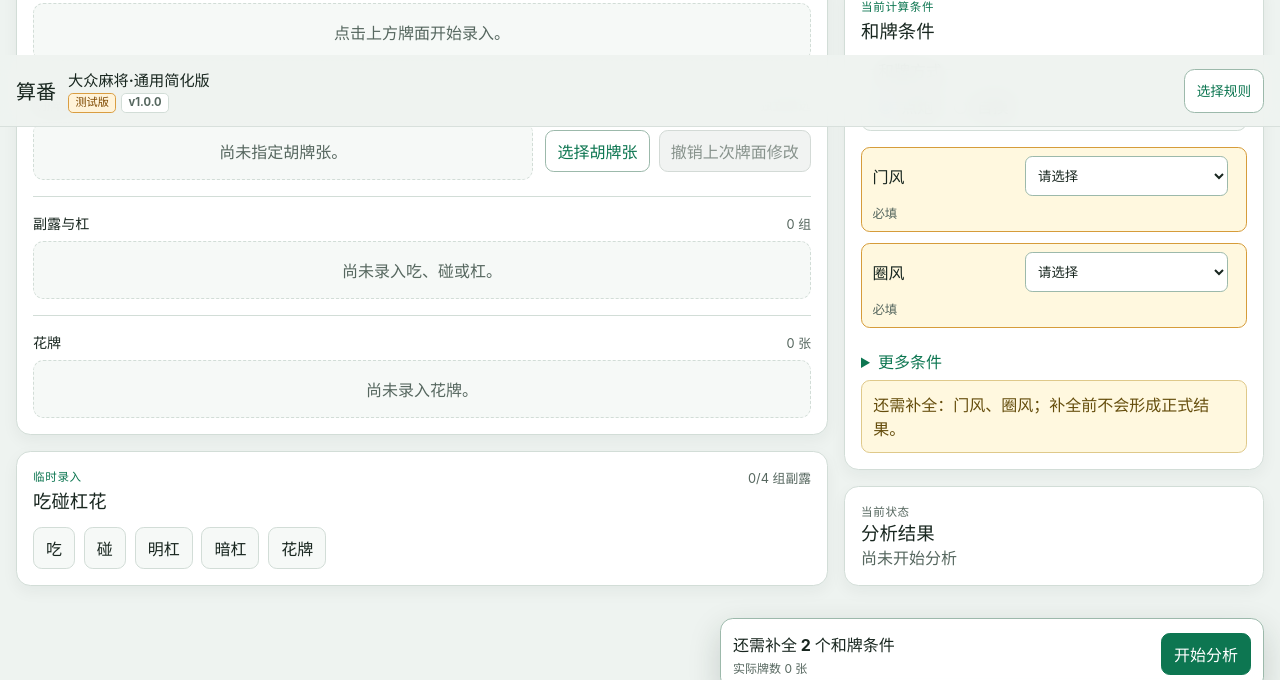
CalculatorPage Batch 12 interaction › guards closing temporary chow input and operating the winning-tile slot
The image size is (1280, 680).
(page scrolled)
Click the button "吃" at (54, 548), box [33,527,75,569]
(page scrolled)
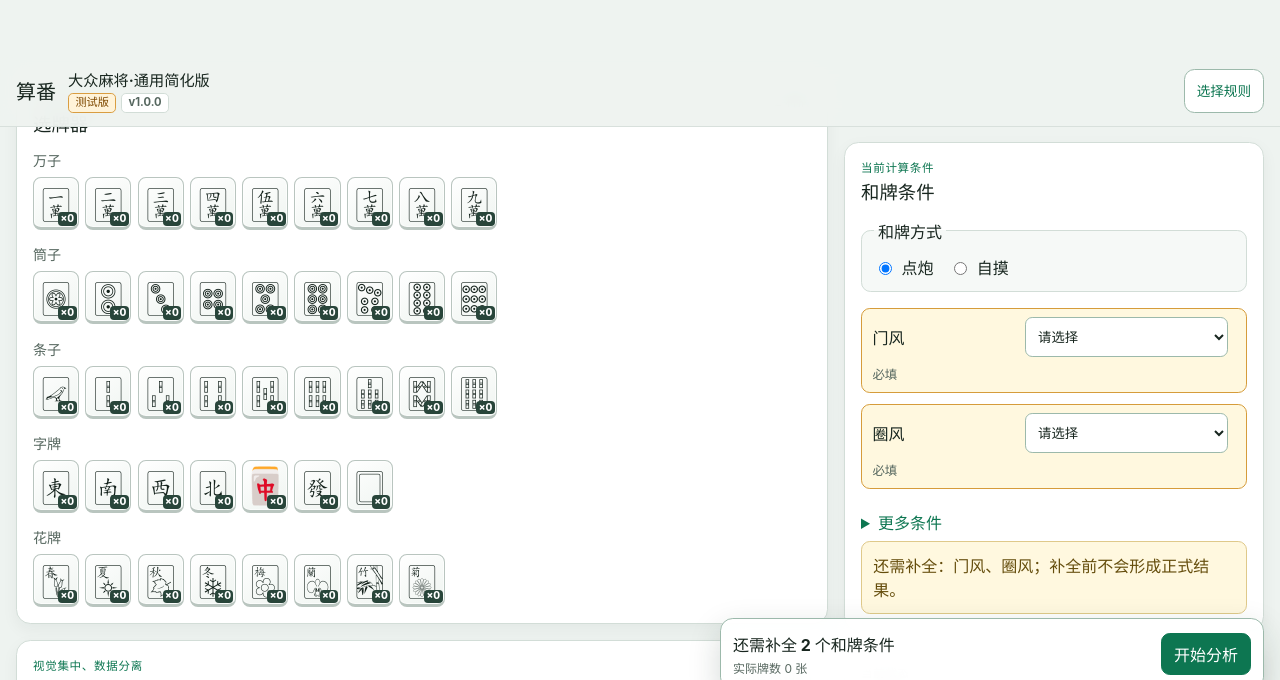
Click the button named "四万，已使用 0 张" at (213, 203), box [190,177,236,230]
(page scrolled)
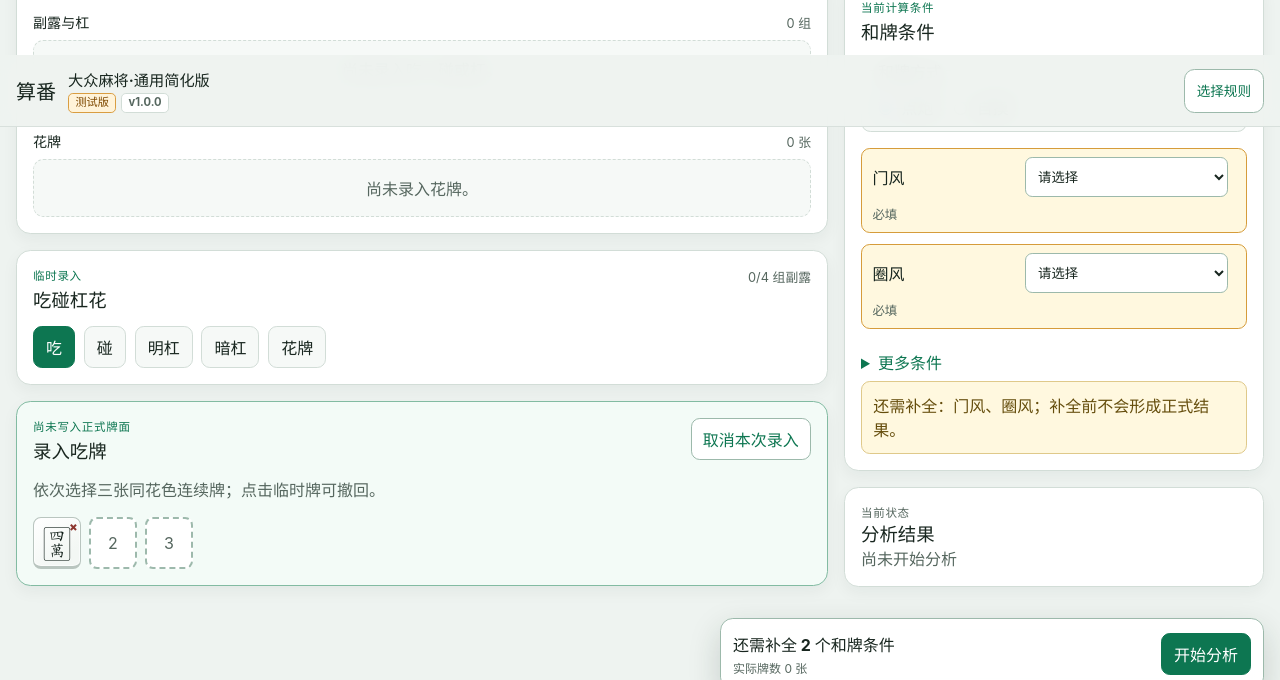
Click the button "取消本次录入" at (751, 439), box [691,418,811,460]
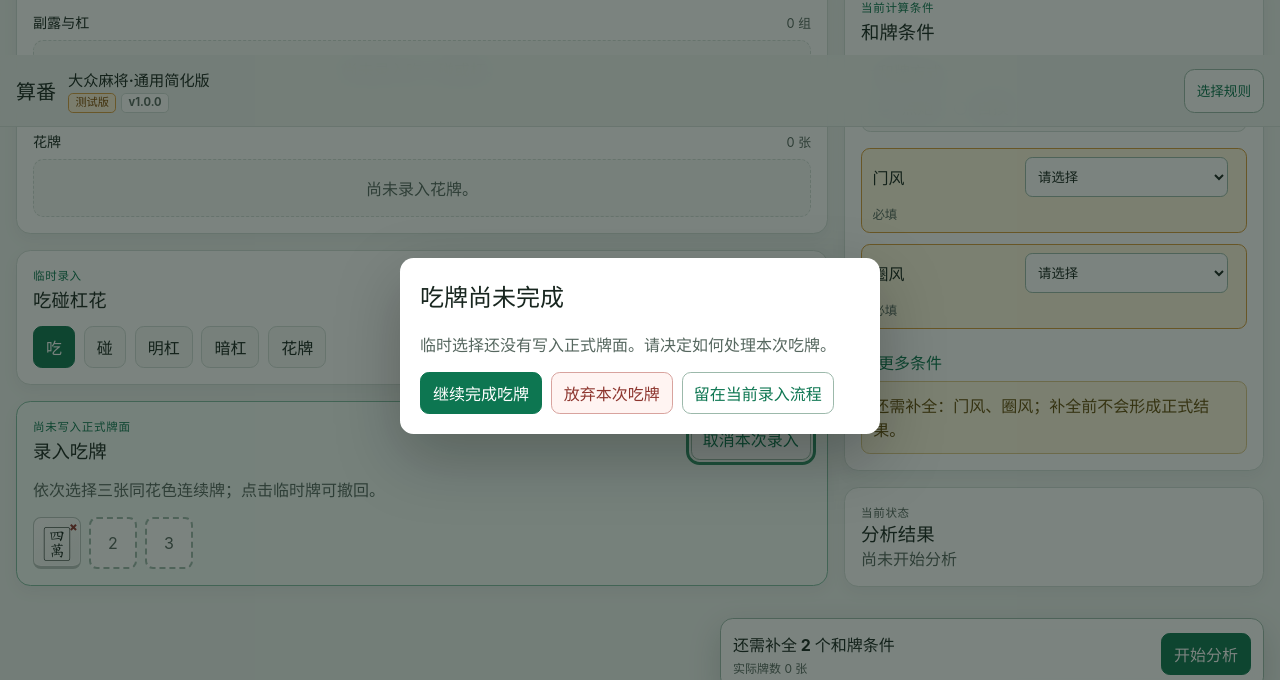
Expected: the dialog "吃牌尚未完成" is shown, [400,258,880,434]
Click the button "留在当前录入流程" at (758, 394), box [682,372,834,414]
(page scrolled)
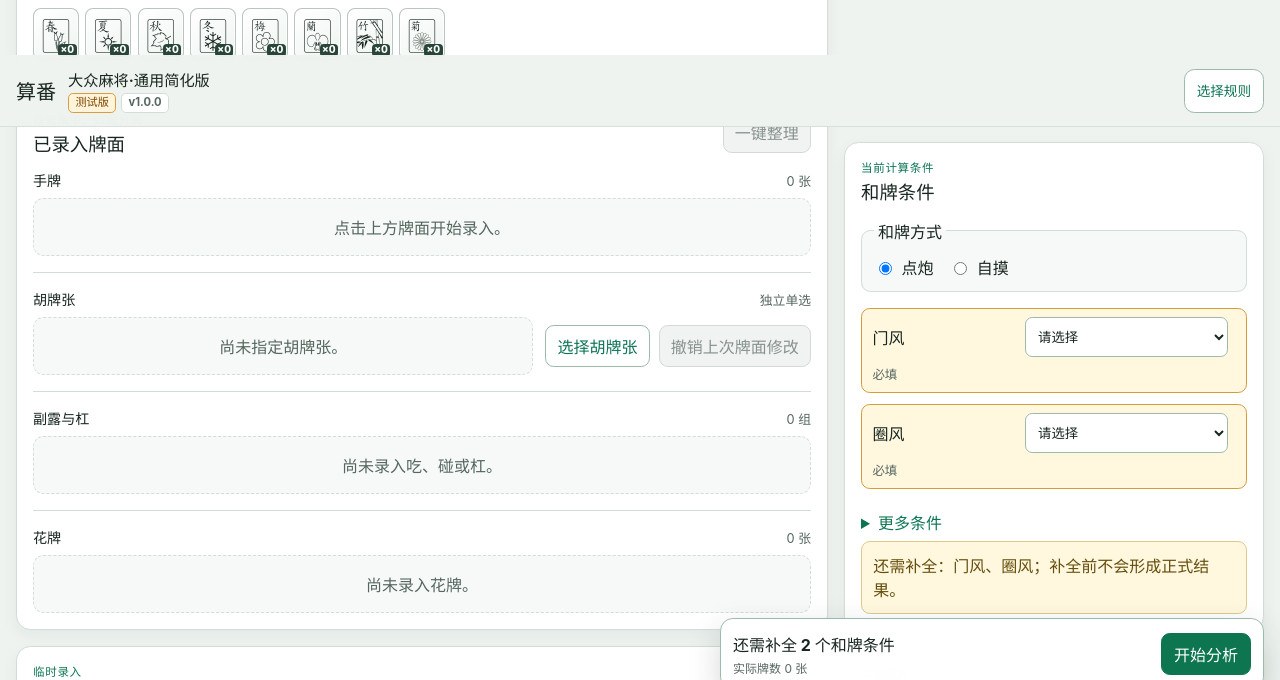
Click the button "选择胡牌张" at (598, 346), box [545,325,650,367]
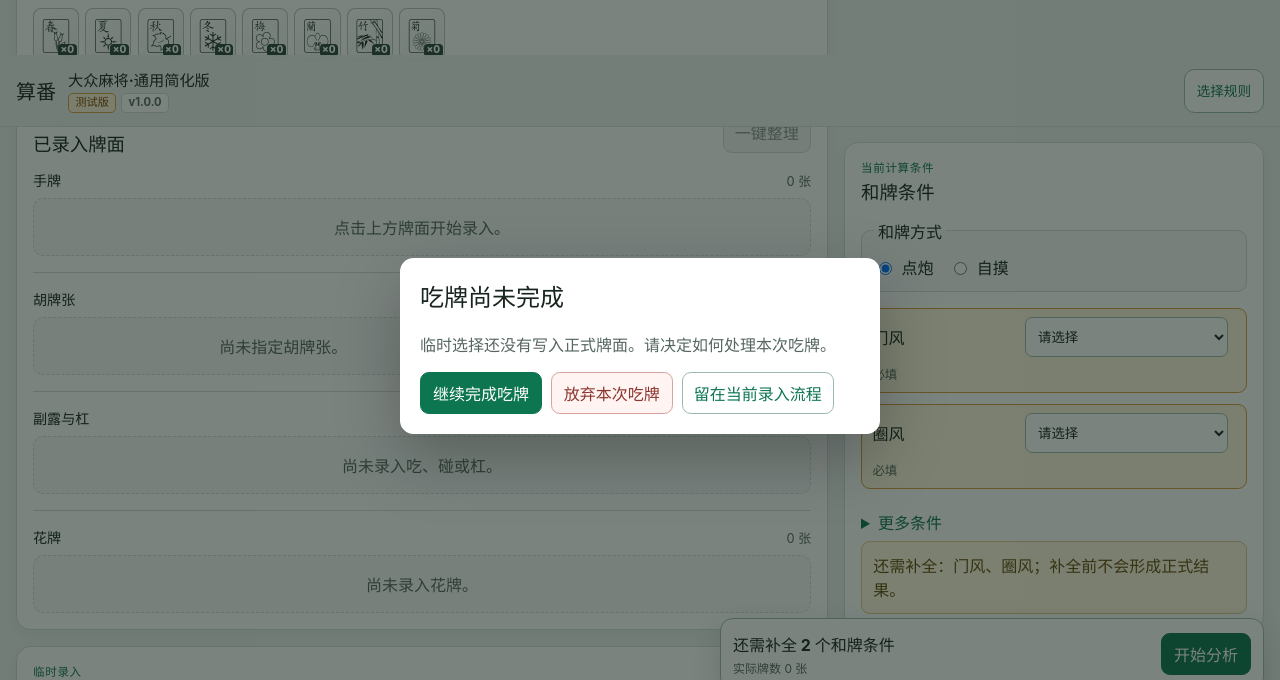
Expected: the dialog "吃牌尚未完成" is shown, [400,258,880,434]
Click the button "放弃本次吃牌" at (612, 394), box [551,372,673,414]
(page scrolled)
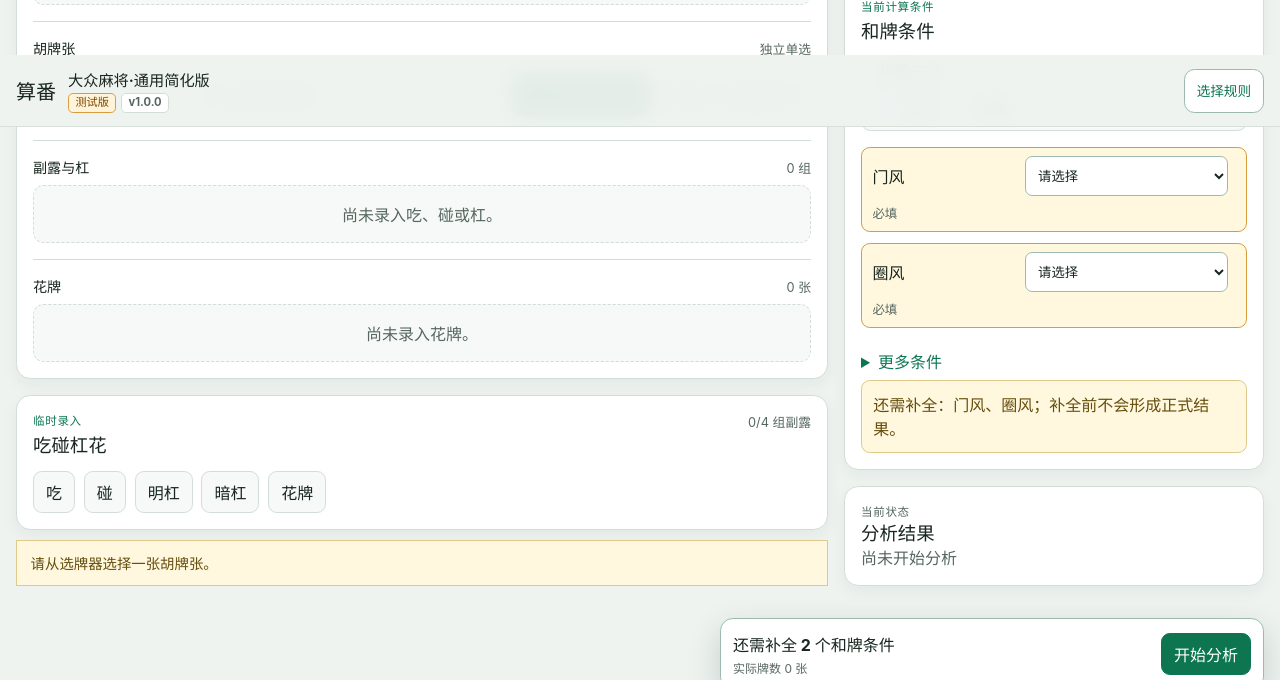
Expected: the text "请从选牌器选择一张胡牌张。" is shown, [16,540,828,586]
